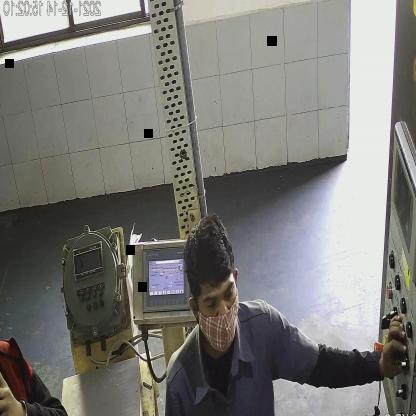no_goggles: (200, 284, 237, 314)
